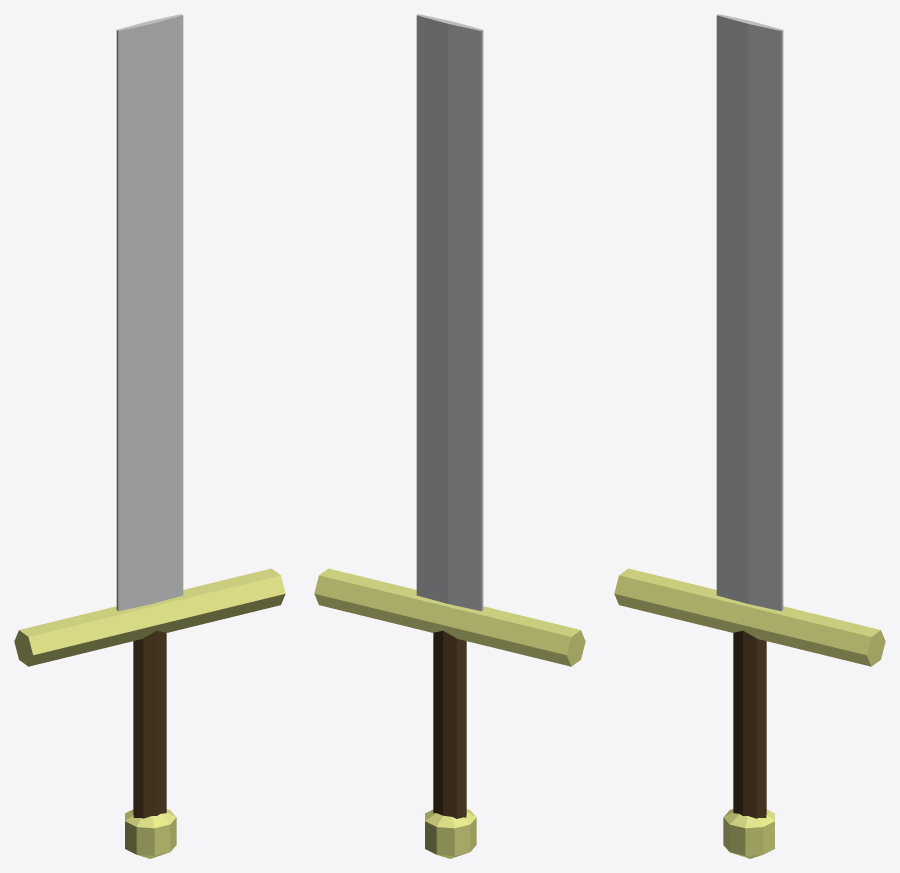
File: sword2.glb
3 renders of one model, left to right at view 1: azimuth 30°, elevation 25°; view 2: azimuth 150°, elevation 25°; view 3: azimuth 330°, elevation 25°, orthographic.
Visible parts, largest first — view 1: Cylinder, Cylinder.001, Cylinder.002, Sphere; view 2: Cylinder, Cylinder.001, Cylinder.002, Sphere; view 3: Cylinder, Cylinder.001, Cylinder.002, Sphere.
Part boxes in pixels (left/top/right/bottom): Cylinder: left=116, top=14, right=183, bottom=611; Cylinder.001: left=14, top=568, right=285, bottom=666; Cylinder.002: left=133, top=630, right=166, bottom=818; Sphere: left=125, top=809, right=176, bottom=858; Cylinder: left=416, top=14, right=483, bottom=611; Cylinder.001: left=314, top=568, right=585, bottom=666; Cylinder.002: left=433, top=630, right=466, bottom=818; Sphere: left=425, top=809, right=476, bottom=858; Cylinder: left=716, top=14, right=783, bottom=611; Cylinder.001: left=614, top=568, right=885, bottom=666; Cylinder.002: left=733, top=630, right=766, bottom=818; Sphere: left=723, top=809, right=774, bottom=858.
Bounding box in the file's own units: 2.32 × 7.35 × 0.4104.
